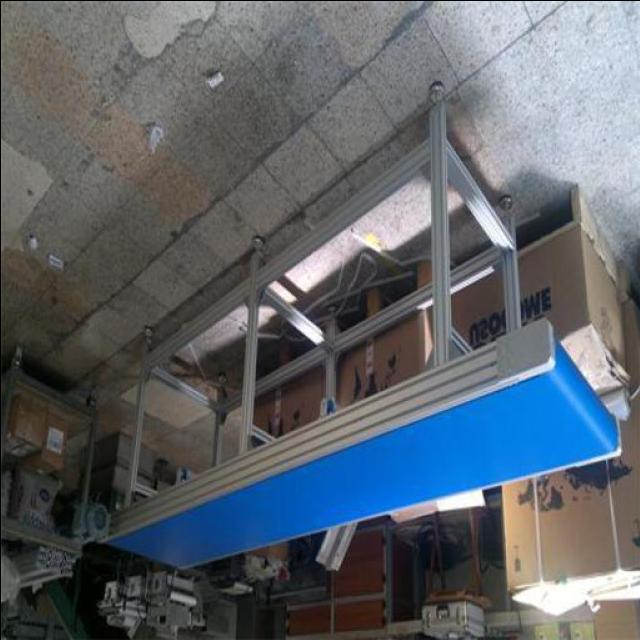conveyor: (110, 362, 619, 572)
